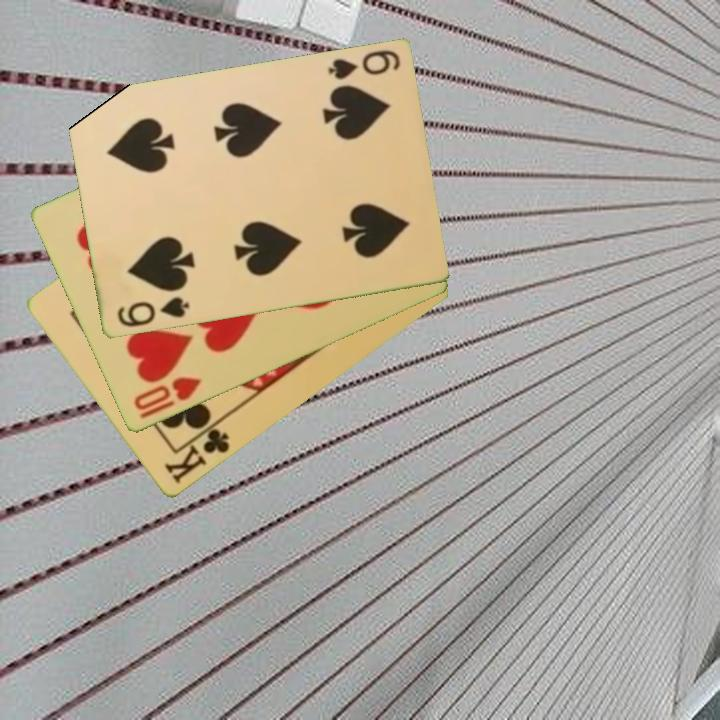10h: (129, 373, 205, 414)
6s: (113, 294, 192, 331), (324, 47, 403, 83)
Kc: (161, 417, 233, 488)
